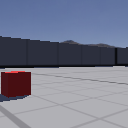red_cube: (1, 71, 31, 98)
